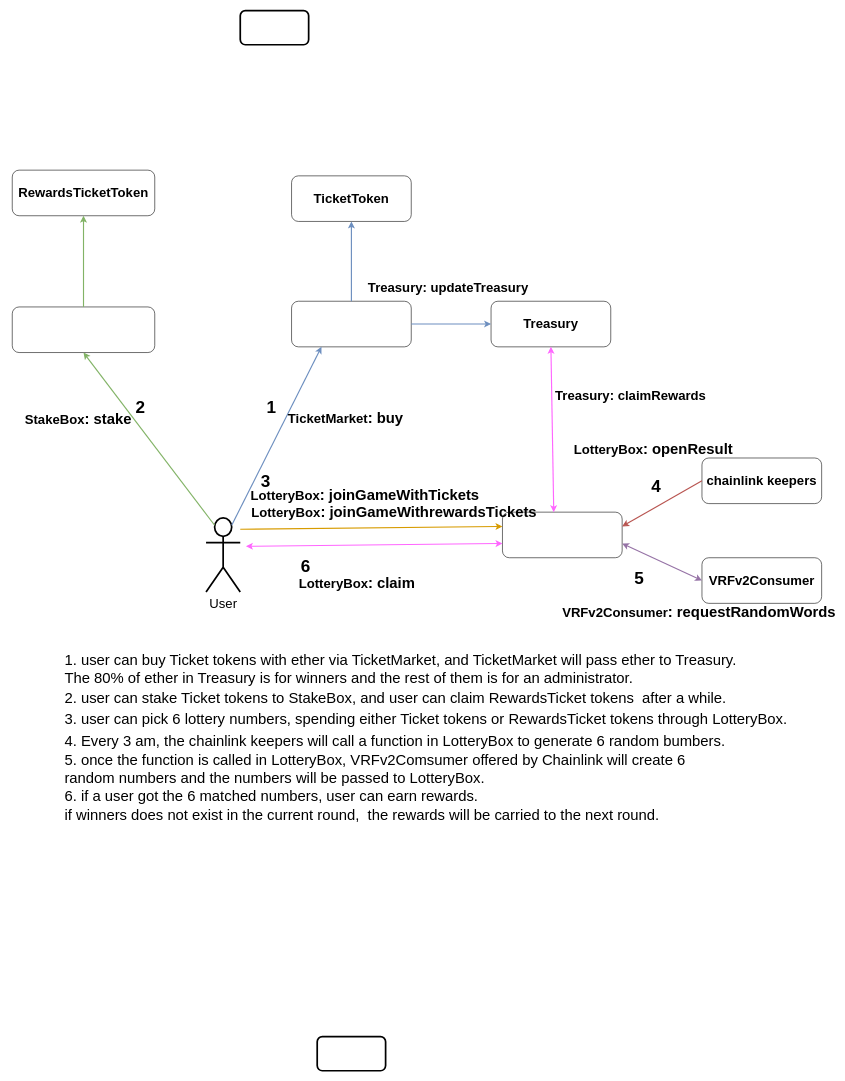
Image size: 845x1081. Some labels were removed from this diagram. The shapes that lost their labels are listed below. From the top down, each one's box as (x1, y1, x2, y2) in pixels, then its label:
(12, 306, 155, 353): StakeBox
(291, 301, 411, 347): TicketMarket
(502, 512, 622, 558): LotteryBox
